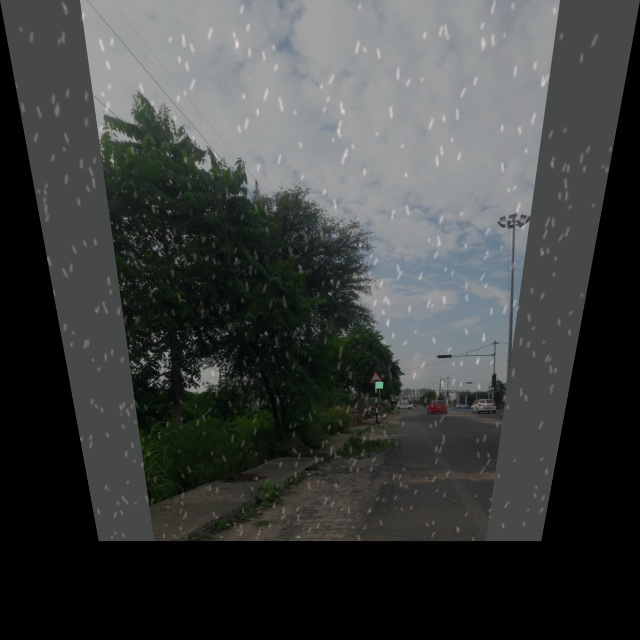Hump_or_Rough_Road: (365, 365, 385, 388)
